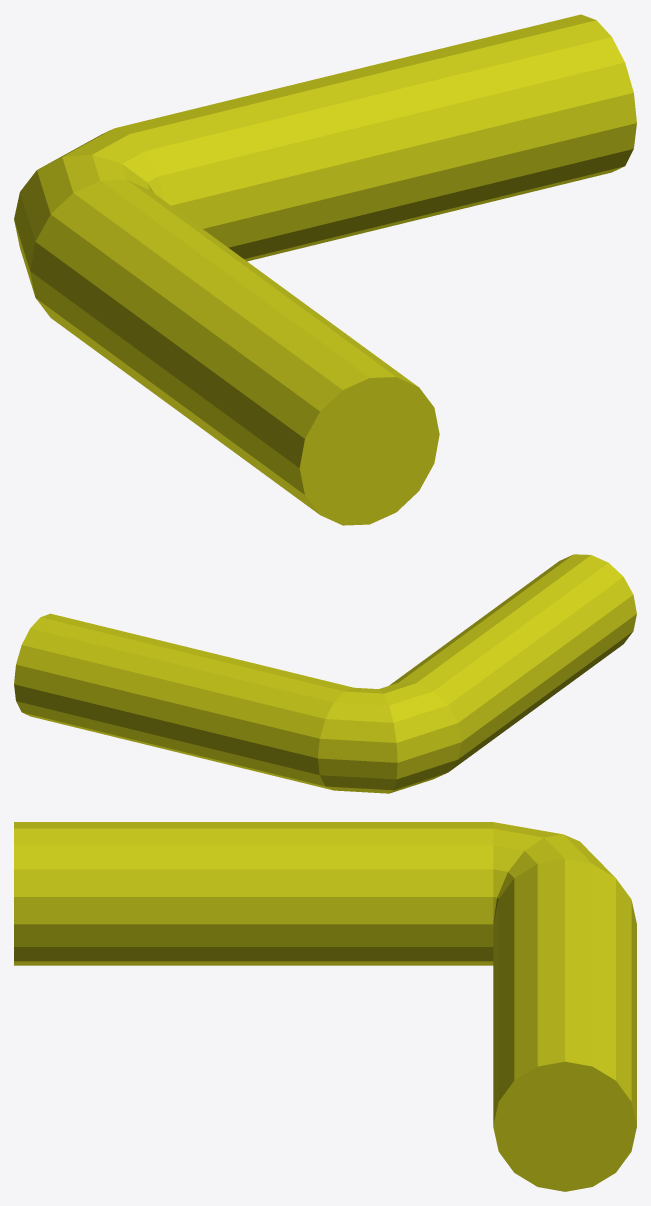
Rendered from pipe_1meter_ecke90.obj.
3 renders of one model, top to bottom at view 1: azimuth 30°, elevation 25°; view 2: azimuth 150°, elevation 25°; view 3: azimuth 270°, elevation 25°, orthographic. The views are drawn at different scales.
Bounding box in the file's own units: 13 × 3 × 13.
